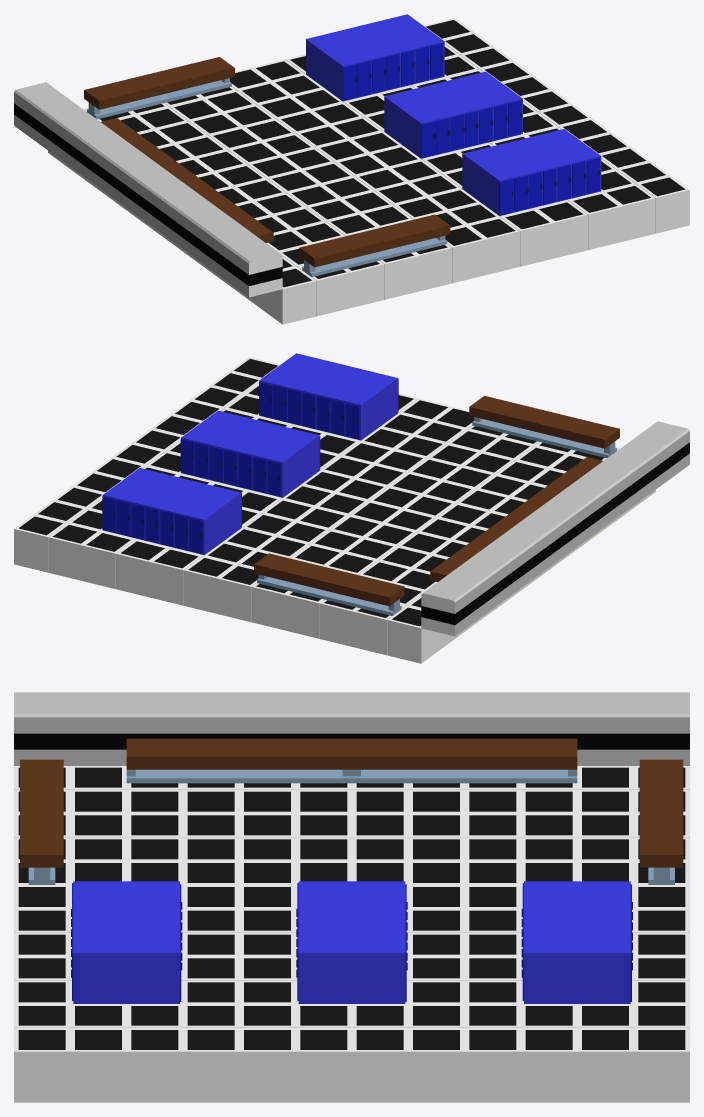
Rendered from closetsLarge.fbx.
3 renders of one model, top to bottom at view 1: azimuth 30°, elevation 25°; view 2: azimuth 150°, elevation 25°; view 3: azimuth 270°, elevation 25°, orthographic. The views are drawn at different scales.
Visible parts, largest first — view 1: Cube.188, Cube.191, Cube.169, Cube.164, Cube.167, Cube.007, Cube.189, Cube.190, Cube.183, Cube.002, Cube.019, Cube.024 (+87 smaller); view 2: Cube.189, Cube.007, Cube.190, Cube.167, Cube.164, Cube.169, Cube.188, Cube.191, Cube.174, Cube.134, Cube.144, Cube.139 (+87 smaller); view 3: Cube.011, Cube.163, Cube.191, Cube.007, Cube.189, Cube.190, Cube.169, Cube.188, Cube.167, Cube.164, Cube.024, Cube.027 (+108 smaller).
Part boxes in pixels (x1=…): Cube.188: x1=402, y1=85, x2=522, y2=158; Cube.191: x1=324, y1=28, x2=444, y2=101; Cube.169: x1=481, y1=142, x2=601, y2=215; Cube.164: x1=299, y1=214, x2=450, y2=277; Cube.167: x1=84, y1=57, x2=234, y2=119; Cube.007: x1=462, y1=129, x2=582, y2=202; Cube.189: x1=384, y1=71, x2=503, y2=144; Cube.190: x1=306, y1=14, x2=425, y2=87; Cube.183: x1=229, y1=240, x2=282, y2=297; Cube.002: x1=263, y1=266, x2=316, y2=324; Cube.019: x1=501, y1=208, x2=554, y2=266; Cube.024: x1=637, y1=175, x2=689, y2=233; Cube.189: x1=180, y1=424, x2=301, y2=497; Cube.007: x1=259, y1=367, x2=379, y2=440; Cube.190: x1=102, y1=481, x2=222, y2=554; Cube.167: x1=254, y1=553, x2=404, y2=615; Cube.164: x1=469, y1=396, x2=619, y2=458; Cube.169: x1=278, y1=353, x2=398, y2=426; Cube.188: x1=200, y1=410, x2=320, y2=483; Cube.191: x1=121, y1=468, x2=241, y2=541; Cube.174: x1=421, y1=579, x2=474, y2=636; Cube.134: x1=387, y1=605, x2=440, y2=663; Cube.144: x1=14, y1=514, x2=66, y2=572; Cube.139: x1=149, y1=547, x2=202, y2=605; Cube.011: x1=126, y1=738, x2=351, y2=783; Cube.163: x1=352, y1=738, x2=577, y2=783; Cube.191: x1=521, y1=881, x2=577, y2=1003; Cube.007: x1=126, y1=881, x2=182, y2=1003; Cube.189: x1=352, y1=881, x2=407, y2=1003; Cube.190: x1=577, y1=881, x2=632, y2=1003; Cube.169: x1=71, y1=881, x2=126, y2=1003; Cube.188: x1=296, y1=881, x2=351, y2=1003; Cube.167: x1=639, y1=759, x2=683, y2=884; Cube.164: x1=20, y1=759, x2=63, y2=884; Cube.024: x1=14, y1=1028, x2=70, y2=1102; Cube.027: x1=70, y1=1028, x2=126, y2=1102.
Bounding box in the file's own units: 2602 × 400 × 2400.
